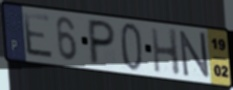0: (119, 21, 144, 73)
6: (54, 15, 79, 63)
E: (21, 11, 55, 62)
H: (149, 26, 182, 78)
N: (178, 30, 211, 80)
P: (88, 18, 117, 67)
